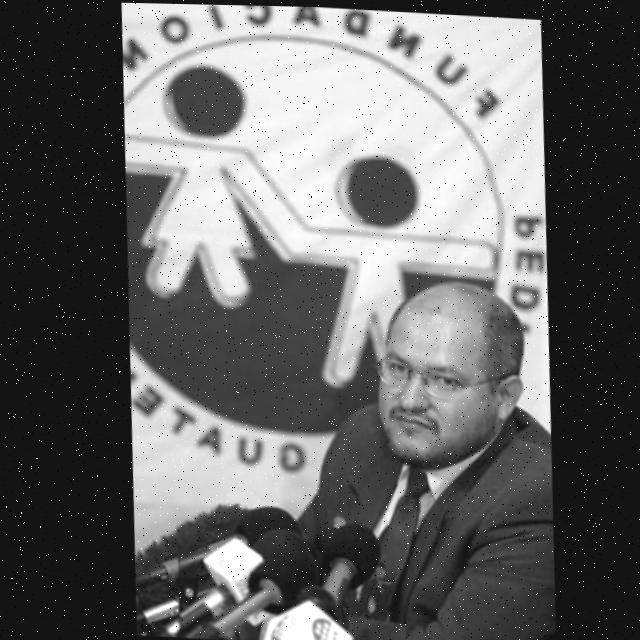face: (355, 277, 530, 473)
